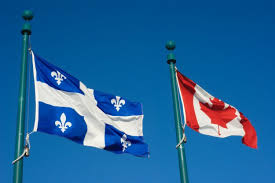Canada flag: (173, 66, 259, 149)
